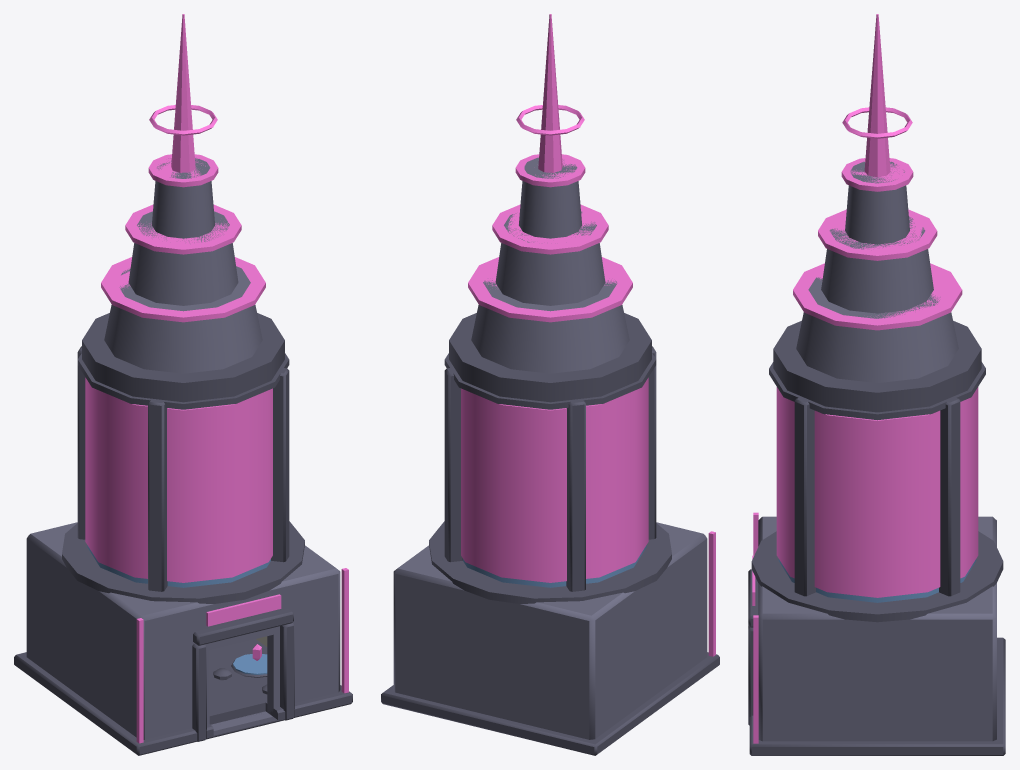
The model's file is CiudadAguja.fbx.
3 views of the same model, side by side, from view 1: azimuth 30°, elevation 25°; view 2: azimuth 150°, elevation 25°; view 3: azimuth 270°, elevation 25° (orthographic). The views are drawn at different scales.
Visible parts, largest first — view 1: CiudadAguja_Base_Cuerpo, CiudadAguja_Medio_Luz, CiudadAguja_Tope_Cuerpo, CiudadAguja_Base_Metal, CiudadAguja_Medio_Metal, CiudadAguja_Tope_Luz, CiudadAguja_Tope_Metal, CiudadAguja_Base_Luz, CiudadAguja_Medio_Cristal, CiudadAguja_Base_Cristal; view 2: CiudadAguja_Base_Cuerpo, CiudadAguja_Medio_Luz, CiudadAguja_Tope_Cuerpo, CiudadAguja_Base_Metal, CiudadAguja_Tope_Luz, CiudadAguja_Medio_Metal, CiudadAguja_Tope_Metal, CiudadAguja_Base_Luz, CiudadAguja_Medio_Cristal; view 3: CiudadAguja_Base_Cuerpo, CiudadAguja_Medio_Luz, CiudadAguja_Tope_Cuerpo, CiudadAguja_Base_Metal, CiudadAguja_Tope_Luz, CiudadAguja_Medio_Metal, CiudadAguja_Tope_Metal, CiudadAguja_Base_Luz, CiudadAguja_Medio_Cristal.
Boxes of the visible parts, x1=… form: CiudadAguja_Base_Cuerpo: x1=26, y1=522, x2=340, y2=739; CiudadAguja_Medio_Luz: x1=85, y1=377, x2=272, y2=582; CiudadAguja_Tope_Cuerpo: x1=104, y1=158, x2=262, y2=373; CiudadAguja_Base_Metal: x1=14, y1=521, x2=352, y2=755; CiudadAguja_Medio_Metal: x1=77, y1=346, x2=289, y2=591; CiudadAguja_Tope_Luz: x1=101, y1=14, x2=265, y2=322; CiudadAguja_Tope_Metal: x1=82, y1=313, x2=284, y2=402; CiudadAguja_Base_Luz: x1=136, y1=568, x2=348, y2=743; CiudadAguja_Medio_Cristal: x1=87, y1=545, x2=270, y2=587; CiudadAguja_Base_Cristal: x1=233, y1=654, x2=267, y2=674; CiudadAguja_Base_Cuerpo: x1=393, y1=522, x2=707, y2=739; CiudadAguja_Medio_Luz: x1=461, y1=377, x2=648, y2=582; CiudadAguja_Tope_Cuerpo: x1=471, y1=157, x2=629, y2=373; CiudadAguja_Base_Metal: x1=381, y1=521, x2=719, y2=755; CiudadAguja_Tope_Luz: x1=468, y1=14, x2=632, y2=322; CiudadAguja_Medio_Metal: x1=444, y1=346, x2=656, y2=591; CiudadAguja_Tope_Metal: x1=449, y1=313, x2=651, y2=402; CiudadAguja_Base_Luz: x1=708, y1=531, x2=715, y2=656; CiudadAguja_Medio_Cristal: x1=463, y1=545, x2=646, y2=587; CiudadAguja_Base_Cuerpo: x1=758, y1=516, x2=996, y2=741; CiudadAguja_Medio_Luz: x1=776, y1=387, x2=978, y2=597; CiudadAguja_Tope_Cuerpo: x1=796, y1=161, x2=958, y2=382; CiudadAguja_Base_Metal: x1=748, y1=531, x2=1005, y2=755; CiudadAguja_Tope_Luz: x1=793, y1=14, x2=962, y2=330; CiudadAguja_Medio_Metal: x1=769, y1=362, x2=985, y2=596; CiudadAguja_Tope_Metal: x1=773, y1=320, x2=981, y2=412; CiudadAguja_Base_Luz: x1=752, y1=512, x2=758, y2=743; CiudadAguja_Medio_Cristal: x1=778, y1=559, x2=976, y2=602.
Size of the model in its own units: 2360 by 7000 by 2370.
